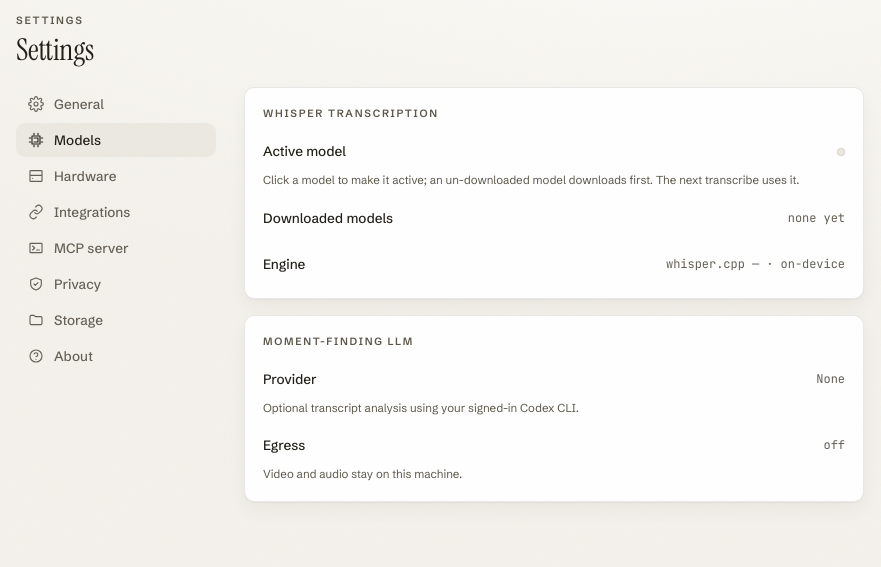
Test: product truth: visible control inventory › describes MCP mutation schemas as fused off instead of allowed
The width and height of the screenshot is (881, 567).
Click the button "MCP server": (116, 248) 16,231 -> 216,265
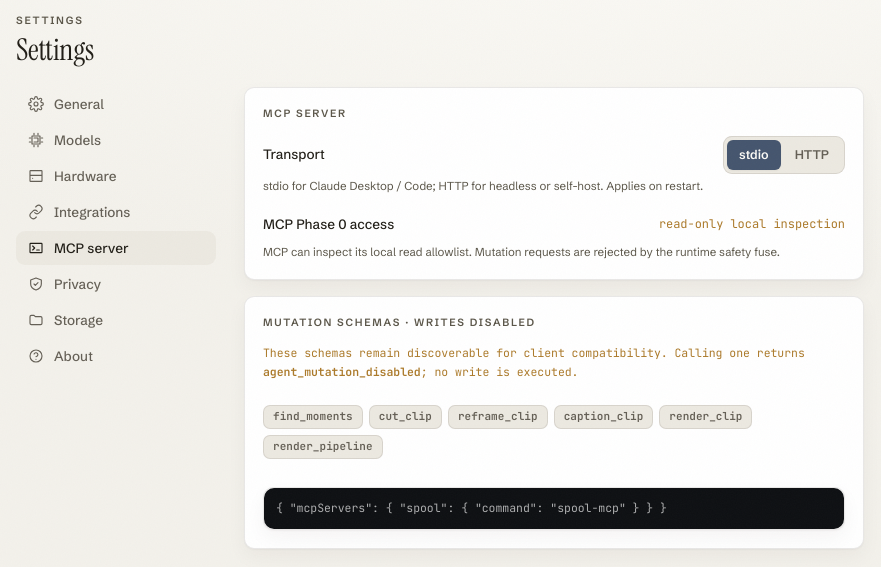
Now the text "MCP Phase 0 access" is shown, box 263,214 -> 394,234
Now the text "read-only local inspection" is shown, box 659,216 -> 845,233
Now the text "MCP can inspect its local read allowlist" is shown, box 263,245 -> 780,259
